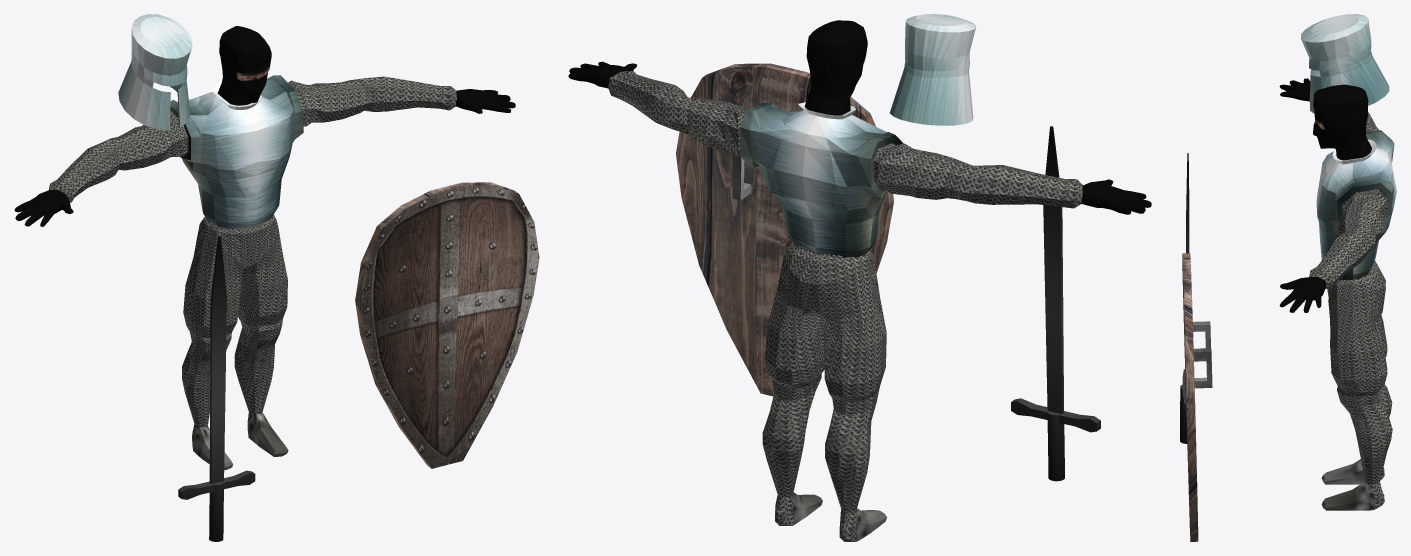
Rendered from spainmediumenemy.FBX.
3 renders of one model, left to right at view 1: azimuth 30°, elevation 25°; view 2: azimuth 150°, elevation 25°; view 3: azimuth 270°, elevation 25°, orthographic. The views are drawn at different scales.
Parts seen in each view (by area): view 1: CharacterModel.001, escudo001, Cylinder003, espada001; view 2: CharacterModel.001, escudo001, Cylinder003, espada001; view 3: CharacterModel.001, Cylinder003, escudo001, espada001.
Boxes of the visible parts, x1=… form: CharacterModel.001: x1=14, y1=26, x2=515, y2=469; escudo001: x1=355, y1=182, x2=539, y2=468; Cylinder003: x1=118, y1=14, x2=192, y2=130; espada001: x1=178, y1=236, x2=255, y2=541; CharacterModel.001: x1=568, y1=20, x2=1151, y2=541; escudo001: x1=676, y1=63, x2=893, y2=396; Cylinder003: x1=890, y1=14, x2=976, y2=125; espada001: x1=1011, y1=126, x2=1100, y2=481; CharacterModel.001: x1=1279, y1=78, x2=1396, y2=510; Cylinder003: x1=1301, y1=14, x2=1389, y2=113; escudo001: x1=1182, y1=253, x2=1212, y2=541; espada001: x1=1180, y1=153, x2=1189, y2=443.
Bounding box in the file's own units: 99.24 × 86.97 × 39.32.
